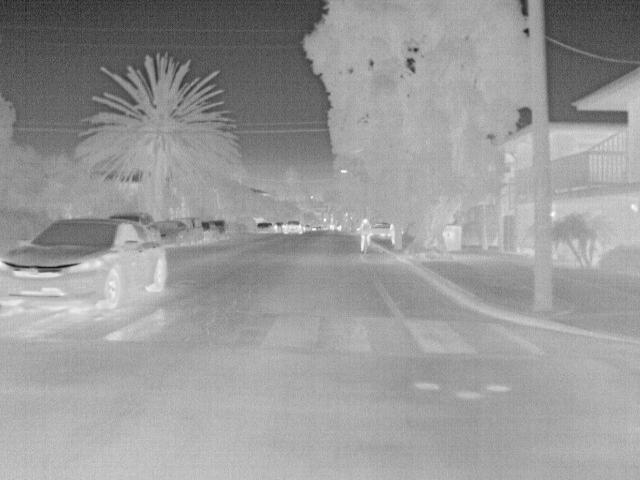car: (1, 223, 170, 312), (107, 209, 158, 244), (157, 220, 190, 248), (182, 216, 205, 244), (209, 218, 230, 240), (281, 218, 305, 237), (253, 218, 279, 234)
person: (357, 218, 373, 252), (384, 223, 396, 245)
